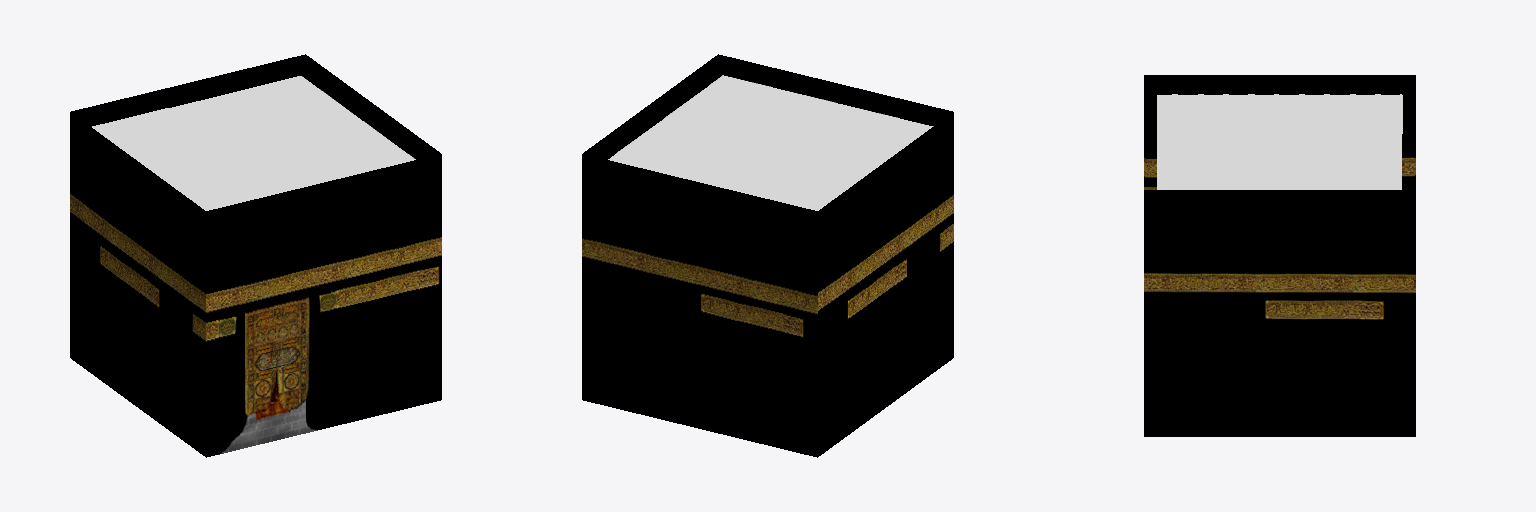
The picture shows the model from 3 angles: view 1: azimuth 30°, elevation 25°; view 2: azimuth 150°, elevation 25°; view 3: azimuth 270°, elevation 25°; orthographic projection.
Parts seen in each view (by area): view 1: Cube; view 2: Cube; view 3: Cube.
Boxes of the visible parts, x1=… form: Cube: x1=70, y1=54, x2=441, y2=457; Cube: x1=582, y1=54, x2=953, y2=457; Cube: x1=1144, y1=75, x2=1415, y2=436.
Size of the model in its own units: 2 by 2 by 2.
1 materials, 1 textured.